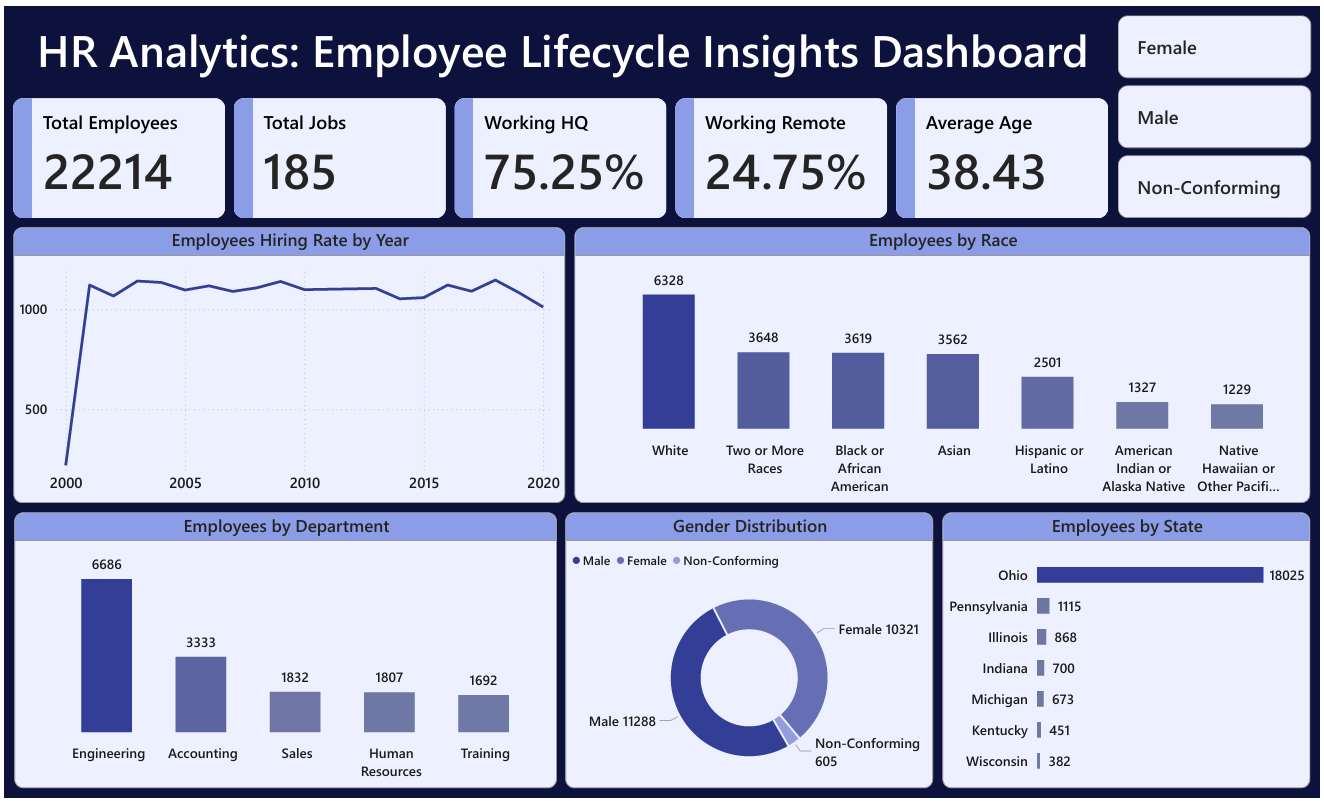

This screenshot's page, from the dashboard's own definition file:
{"tool":"powerbi","page":{"name":"Page 1","canvas":[1430,860],"ordinal":0},"visuals":[{"type":"cardVisual","fields":{"Data":["hr_analytics_cleaned.Working HQ"]},"box":[490,100,230.3,130.2],"z":0},{"type":"cardVisual","fields":{"Data":["hr_analytics_cleaned.Total Jobs"]},"box":[250,100,230,130.2],"z":1000},{"type":"cardVisual","fields":{"Data":["hr_analytics_cleaned.Total Employees"]},"box":[10,100,230,130],"z":2000},{"type":"cardVisual","fields":{"Data":["hr_analytics_cleaned.Working Remote"]},"box":[730,100,230.3,130.2],"z":3000},{"type":"donutChart","title":"Gender Distribution","fields":{"Category":["hr_analytics_cleaned.Gender"],"Y":["hr_analytics_cleaned.Total Employees"]},"box":[610,550,400,300],"z":4000},{"type":"lineChart","title":"Employees Hiring Rate by Year","fields":{"Y":["hr_analytics_cleaned.Total Employees"],"Category":["hr_analytics_cleaned.Hire_Year"]},"box":[10,240,600,300],"z":5000},{"type":"columnChart","title":"Employees by Department","fields":{"Y":["hr_analytics_cleaned.Total Employees"],"Category":["hr_analytics_cleaned.Department"]},"box":[10.8,550,590,300],"z":6000},{"type":"barChart","title":"Employees by State","fields":{"Category":["hr_analytics_cleaned.Location_State"],"Y":["hr_analytics_cleaned.Total Employees"]},"box":[1020,550,400,300],"z":7000},{"type":"columnChart","title":"Employees by Race","fields":{"Y":["hr_analytics_cleaned.Total Employees"],"Category":["hr_analytics_cleaned.Race"]},"box":[620,240,800,300],"z":8000},{"type":"cardVisual","fields":{"Data":["hr_analytics_cleaned.Average Age"]},"box":[970,100,230,130],"z":9000},{"type":"advancedSlicerVisual","fields":{"Values":["hr_analytics_cleaned.Gender"]},"box":[1210.8,10,210,220],"z":10000},{"type":"textbox","box":[20,9.2,1175.4,75.4],"z":11000}]}

Visuals, with their boxes in screenshot pixels (x1, y1, x2, y2), scaled from the page's 1430x860 canvas onto the 1324x801 screenshot:
cardVisual - hr_analytics_cleaned.Working HQ: 454/93/667/214
cardVisual - hr_analytics_cleaned.Total Jobs: 231/93/444/214
cardVisual - hr_analytics_cleaned.Total Employees: 9/93/222/214
cardVisual - hr_analytics_cleaned.Working Remote: 676/93/889/214
"Gender Distribution" donutChart: 565/512/935/792
"Employees Hiring Rate by Year" lineChart: 9/224/565/503
"Employees by Department" columnChart: 10/512/556/792
"Employees by State" barChart: 944/512/1315/792
"Employees by Race" columnChart: 574/224/1315/503
cardVisual - hr_analytics_cleaned.Average Age: 898/93/1111/214
advancedSlicerVisual - hr_analytics_cleaned.Gender: 1121/9/1315/214
textbox: 19/9/1107/79
